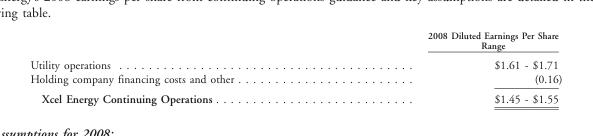table: (29, 29, 561, 104)
table column: (29, 29, 330, 104), (330, 29, 561, 104)
table column header: (29, 29, 561, 54)
table row: (29, 29, 561, 54), (29, 54, 561, 71), (29, 71, 561, 88), (29, 88, 561, 104)
